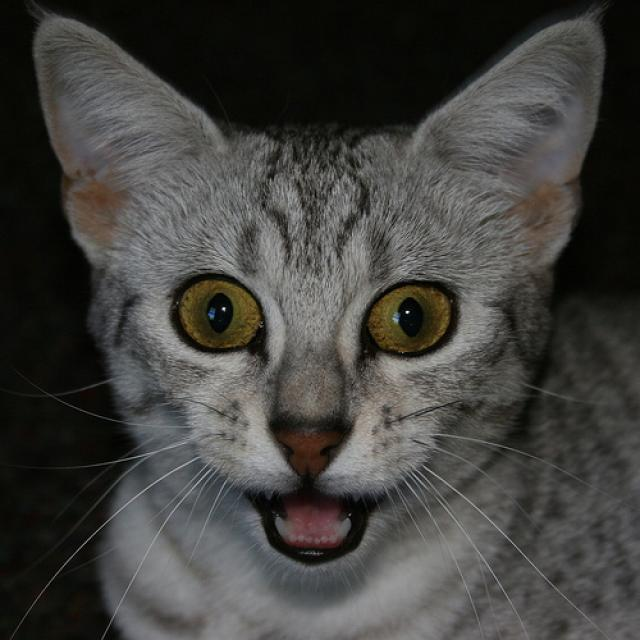Egyptian_Mau: (26, 12, 610, 587)
